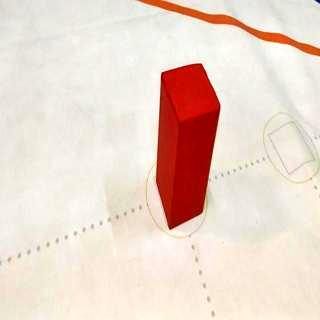redbox: (155, 60, 221, 232)
